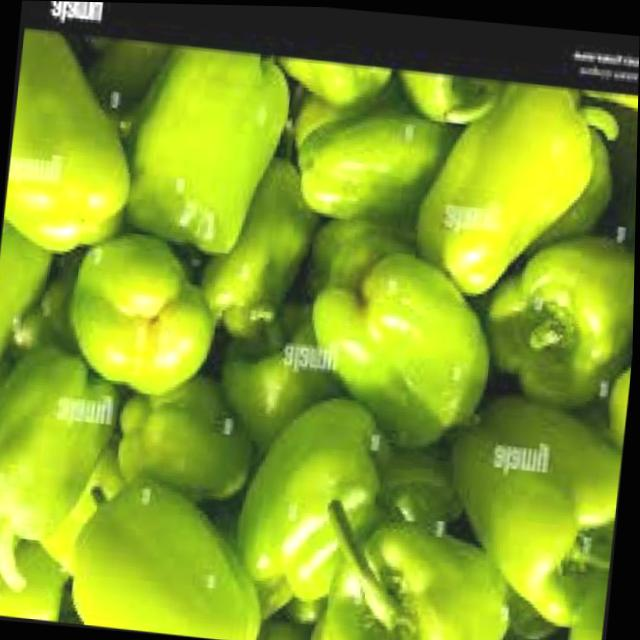Capsicum: (441, 391, 627, 629), (417, 72, 601, 297), (304, 247, 503, 442), (128, 43, 292, 253), (72, 474, 277, 640), (238, 389, 391, 605), (0, 24, 142, 253), (479, 224, 636, 408), (309, 516, 520, 640), (68, 232, 222, 399), (0, 347, 119, 550), (202, 154, 318, 330), (294, 101, 452, 223), (114, 371, 258, 501), (308, 210, 415, 296)
